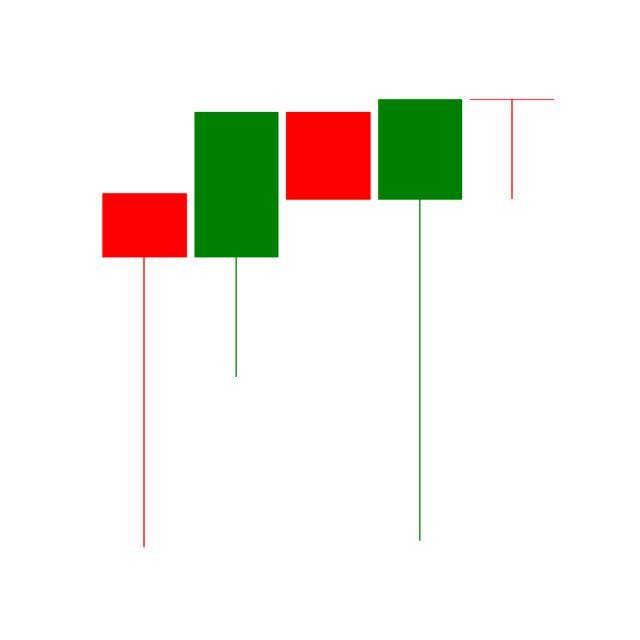Bearish Marubozu: (282, 108, 374, 205)
Hanging Man: (100, 190, 186, 550)
